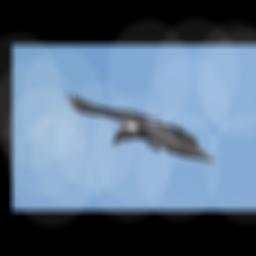Crow: (64, 91, 218, 162)
